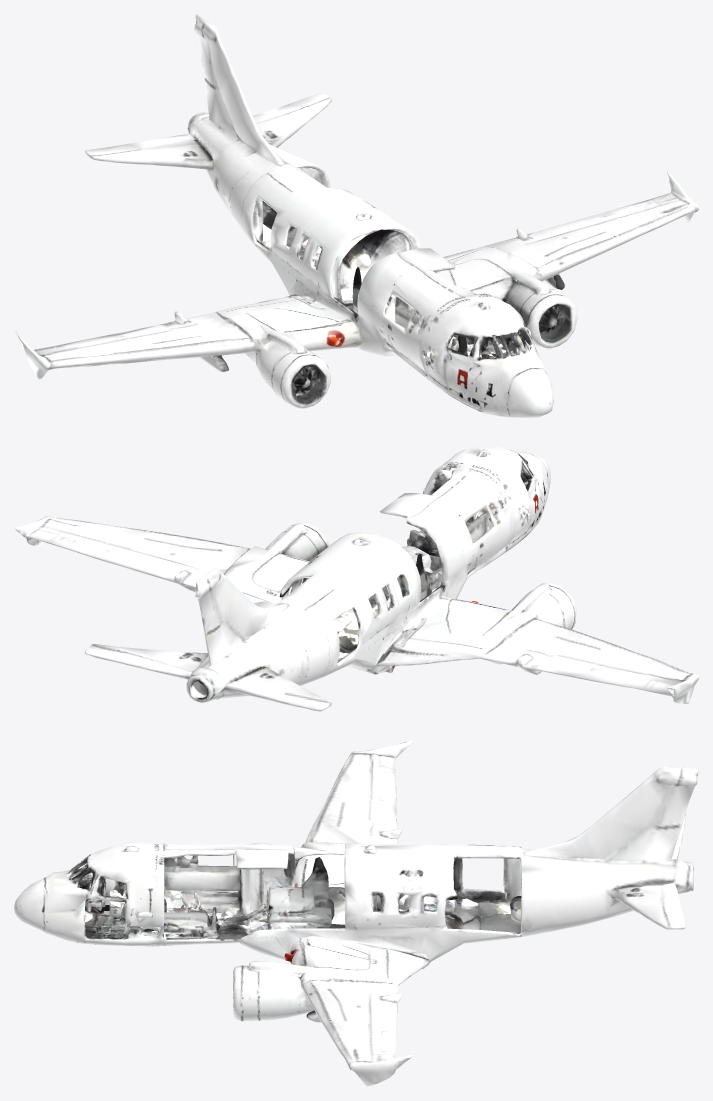
File: crashed_plane.glb
The picture shows the model from 3 angles, top to bottom: view 1: azimuth 30°, elevation 25°; view 2: azimuth 150°, elevation 25°; view 3: azimuth 270°, elevation 25°; orthographic projection.
Visible parts, largest first — view 1: Object_4; view 2: Object_4; view 3: Object_4.
Part boxes in pixels (x1,y1,x2,y2): Object_4: (14,14,698,417); Object_4: (14,446,698,711); Object_4: (14,740,698,1086).
Bounding box in the file's own units: 0.9994 × 0.2836 × 0.9186.
1 material, 1 textured.
